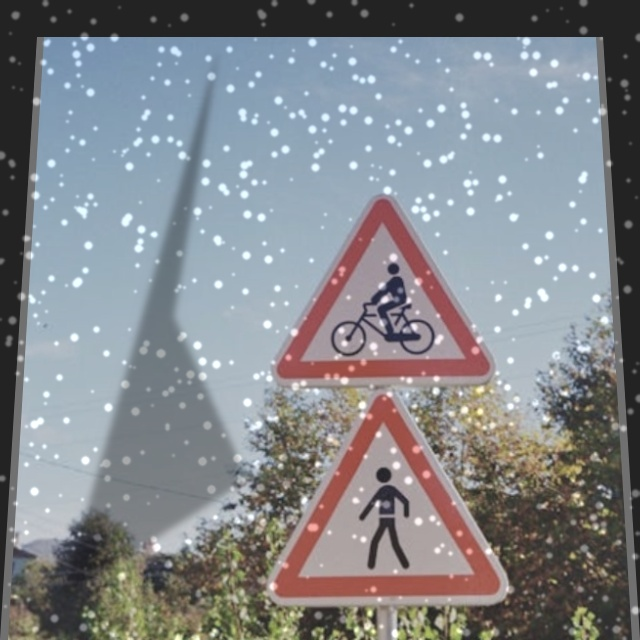Cycle_Crossing: (270, 194, 493, 382)
